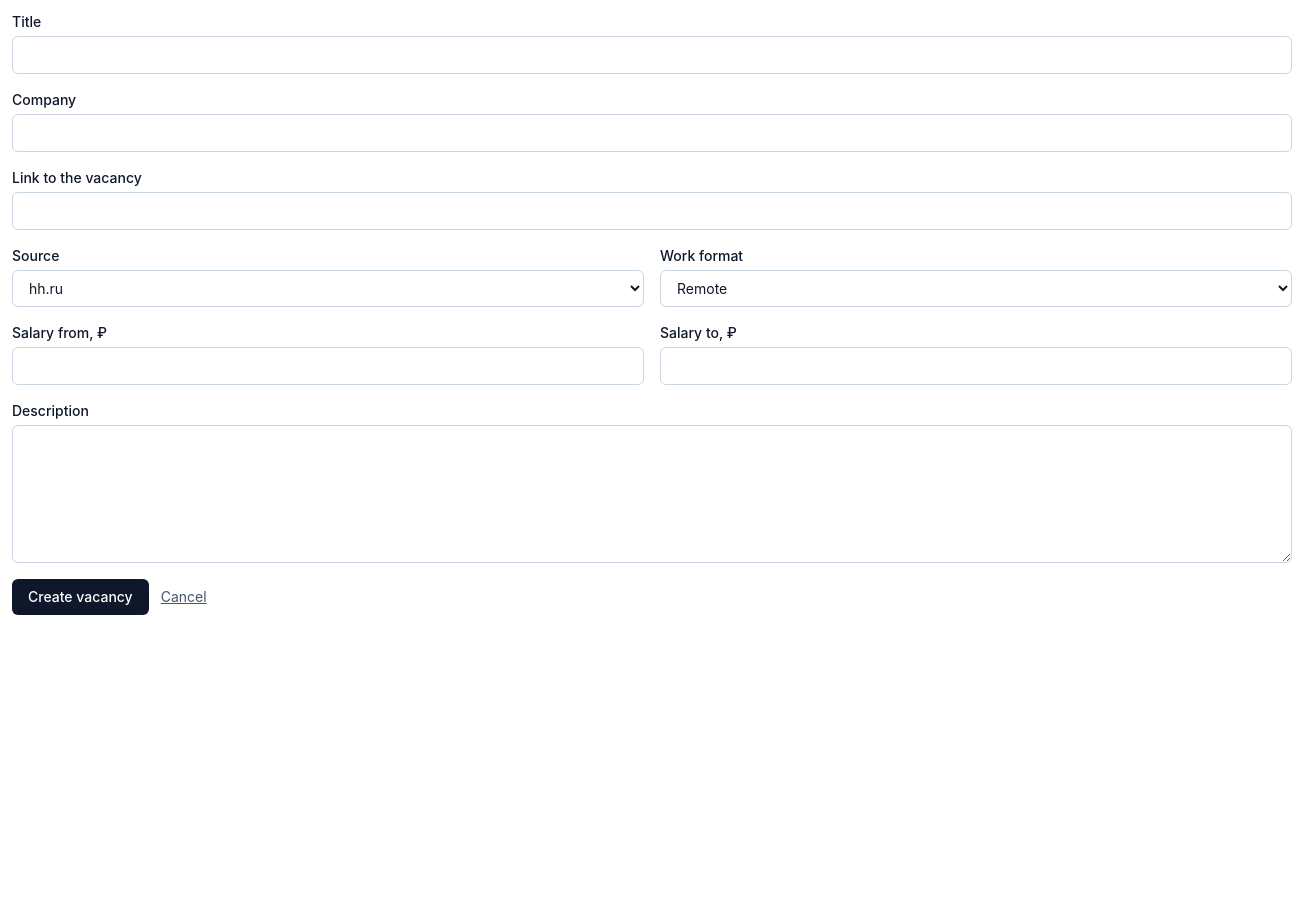
Test case: VacancyForm › shows a validation error and does not submit when the title is empty
What coordinates should you click on to do the following:
click the button "Create vacancy"
I would click on:
 (80, 597)
Its box is [12, 579, 149, 615].
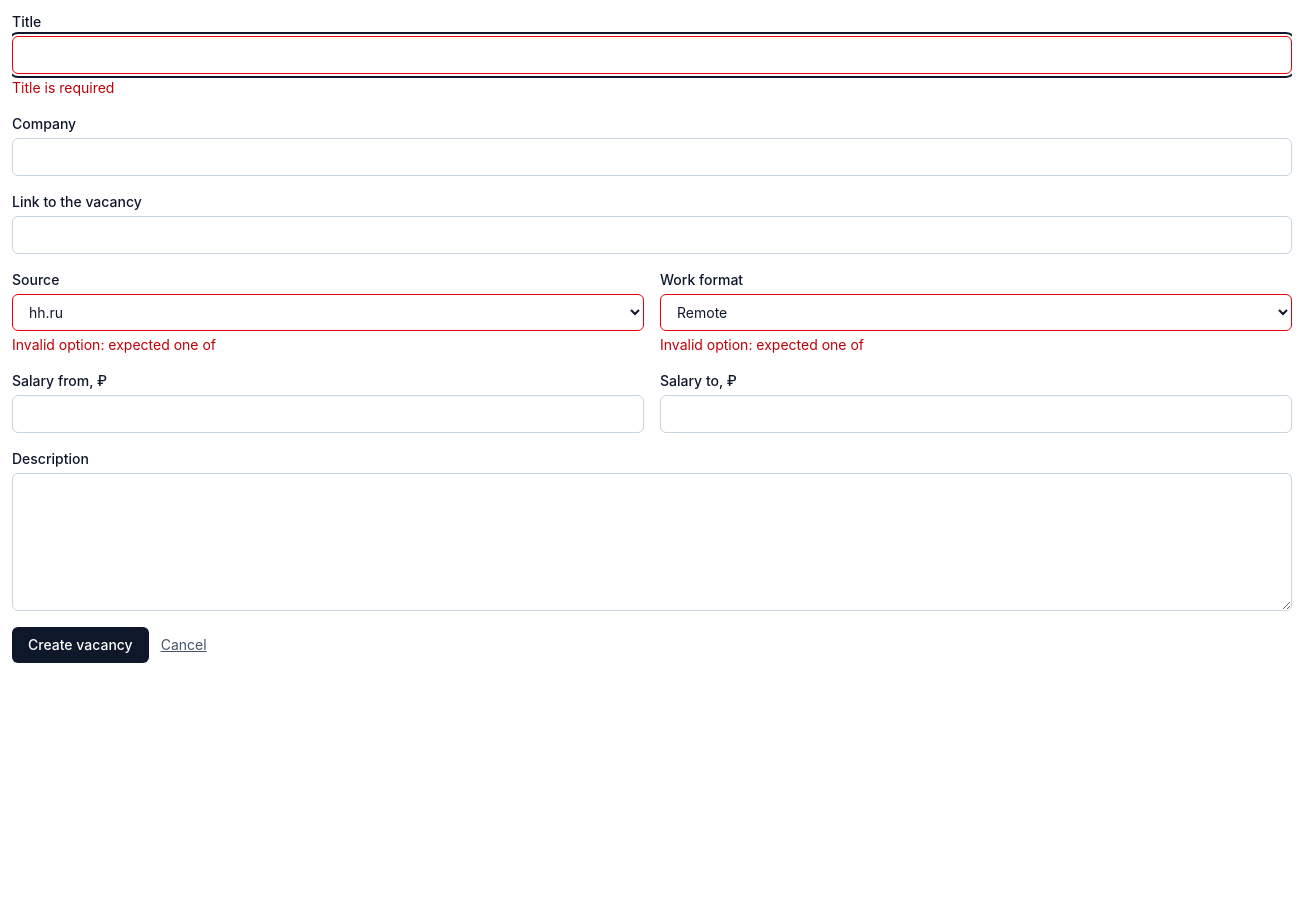
Expected: the text "Title is required" is shown, [12, 79, 114, 96]
